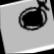not correct: (11, 0, 54, 36)
